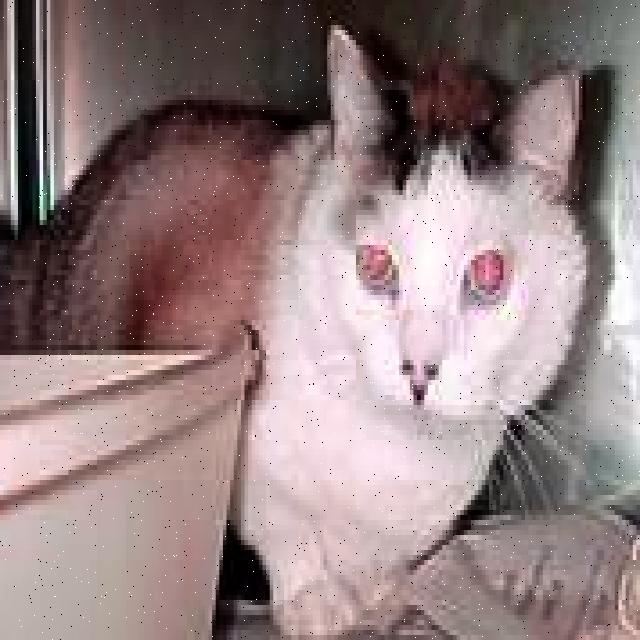Cat: (261, 67, 604, 438)
